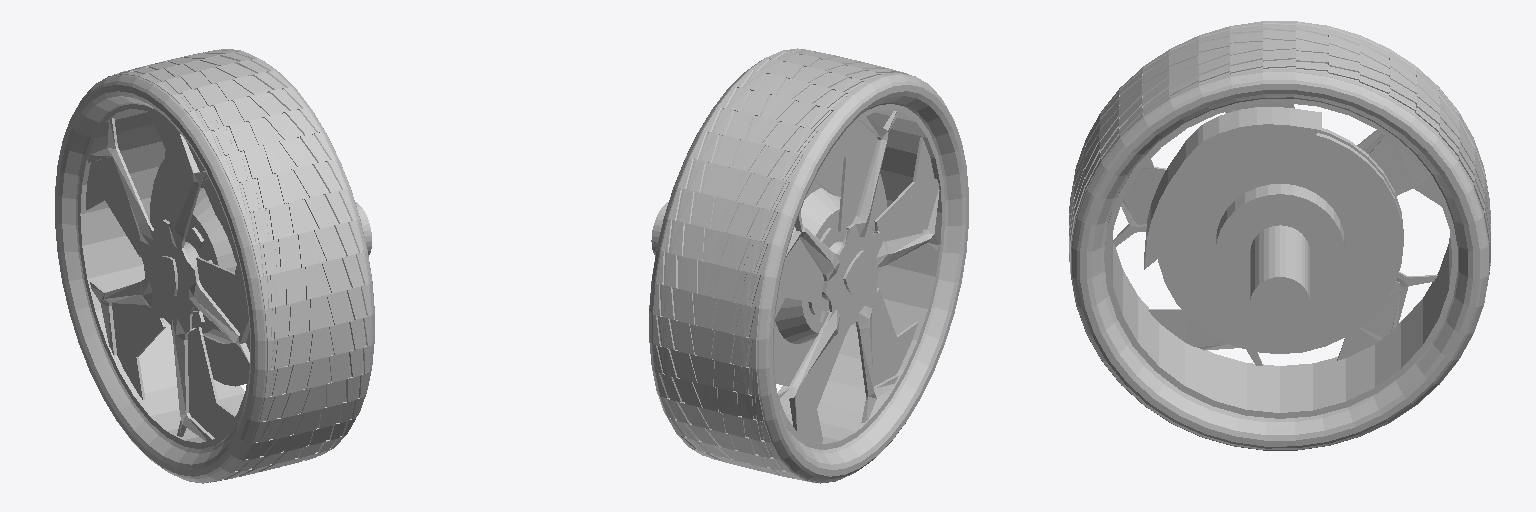
Rendered from lambo_altvr-tire_back_right.obj.
3 views of the same model, side by side, from view 1: azimuth 30°, elevation 25°; view 2: azimuth 150°, elevation 25°; view 3: azimuth 270°, elevation 25° (orthographic).
Visible parts, largest first — view 1: lambo_altvr-tire_back_right.obj; view 2: lambo_altvr-tire_back_right.obj; view 3: lambo_altvr-tire_back_right.obj.
Part boxes in pixels (x1,y1,x2,y2): lambo_altvr-tire_back_right.obj: (55, 49, 374, 483); lambo_altvr-tire_back_right.obj: (649, 48, 968, 483); lambo_altvr-tire_back_right.obj: (1069, 21, 1490, 450).
Size of the model in its own units: 0.5124 by 0.9223 by 0.9223.